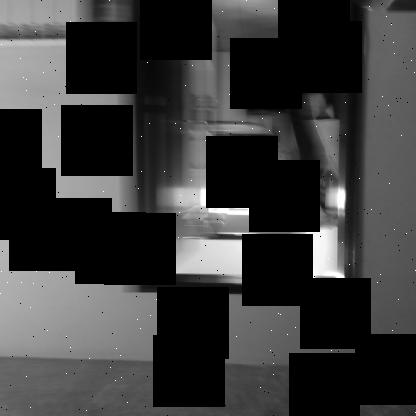Porte: (124, 1, 367, 299)
